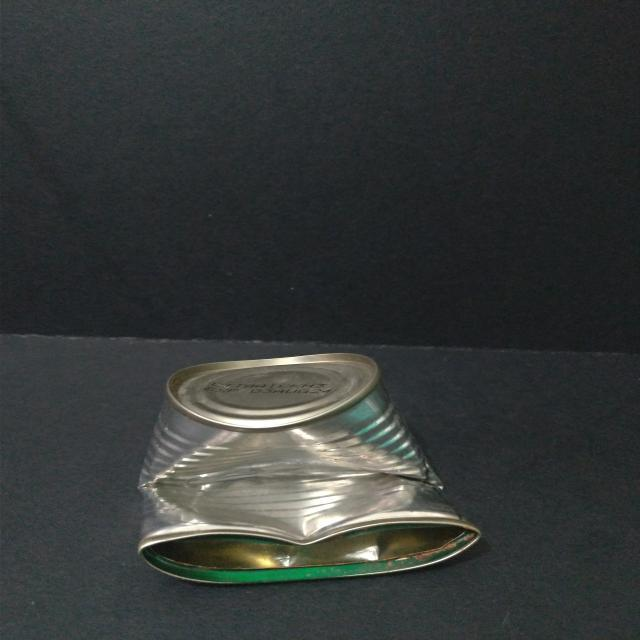metal-can: (137, 350, 485, 585)
